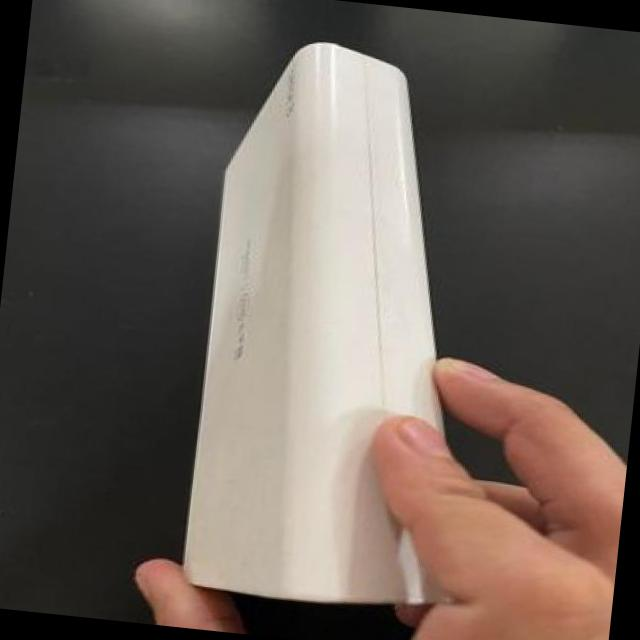power_bank: (97, 15, 574, 640)
